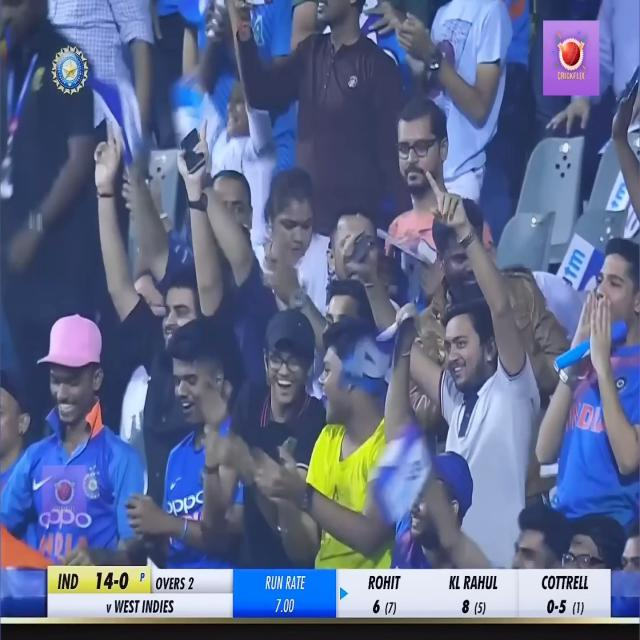partially_visible: (554, 222, 596, 303)
